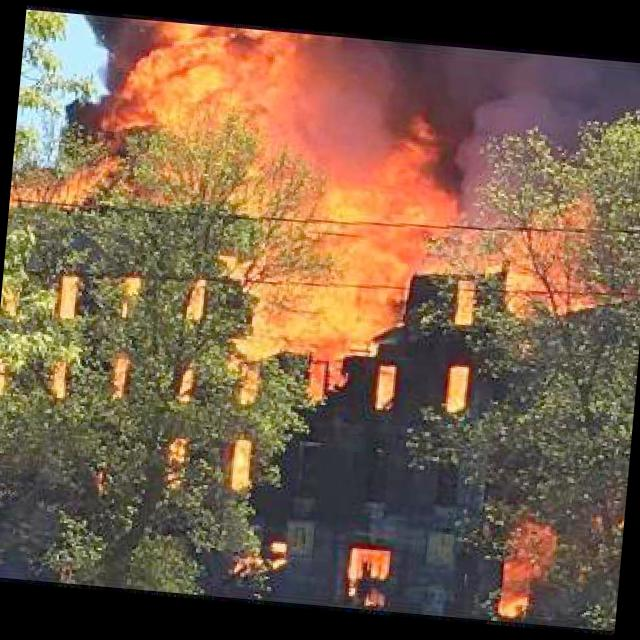fire: (14, 24, 626, 496)
